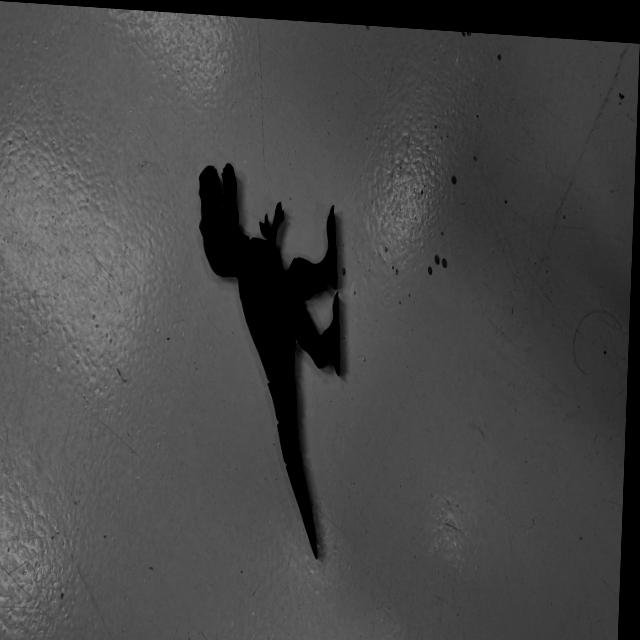dino: (184, 160, 349, 562)
